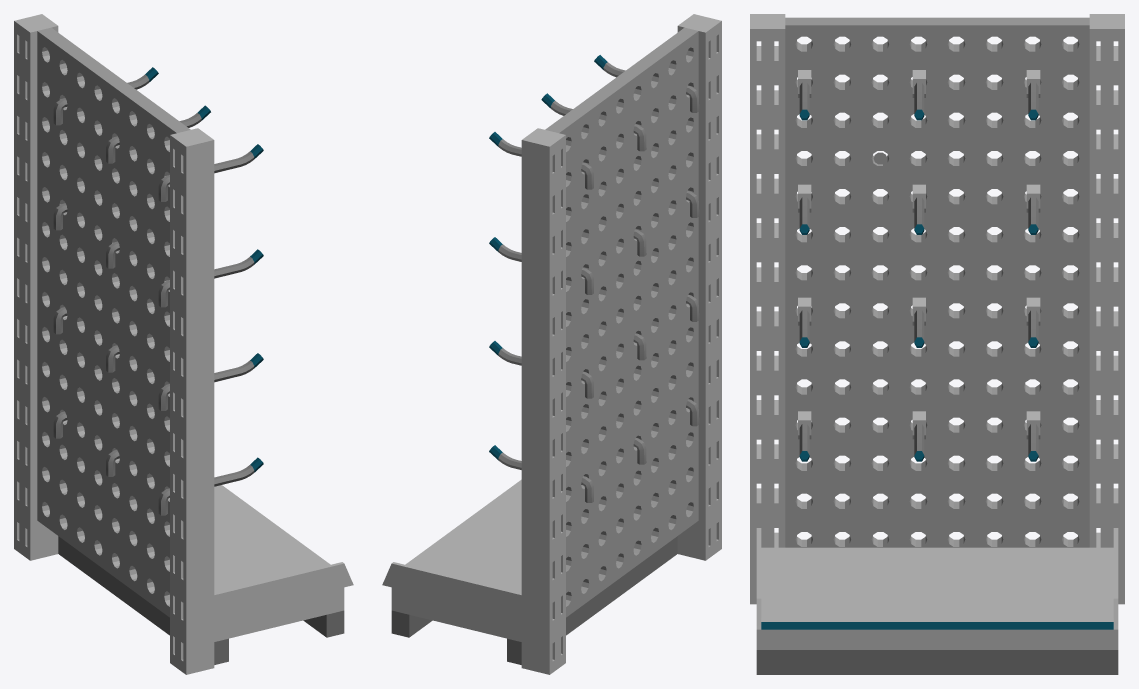
File: Shelf_01b.glb
3 renders of one model, left to right at view 1: azimuth 30°, elevation 25°; view 2: azimuth 150°, elevation 25°; view 3: azimuth 270°, elevation 25°, orthographic. The views are drawn at different scales.
Parts seen in each view (by area): view 1: Mesh_Shelf_01b; view 2: Mesh_Shelf_01b; view 3: Mesh_Shelf_01b.
Boxes of the visible parts, <box> form: Mesh_Shelf_01b: <box>14,14,353,674</box>; Mesh_Shelf_01b: <box>382,14,721,674</box>; Mesh_Shelf_01b: <box>750,14,1124,674</box>.
Size of the model in its own units: 0.613 by 1.8 by 1.06.
Materials: 1 (1 with a texture image).
